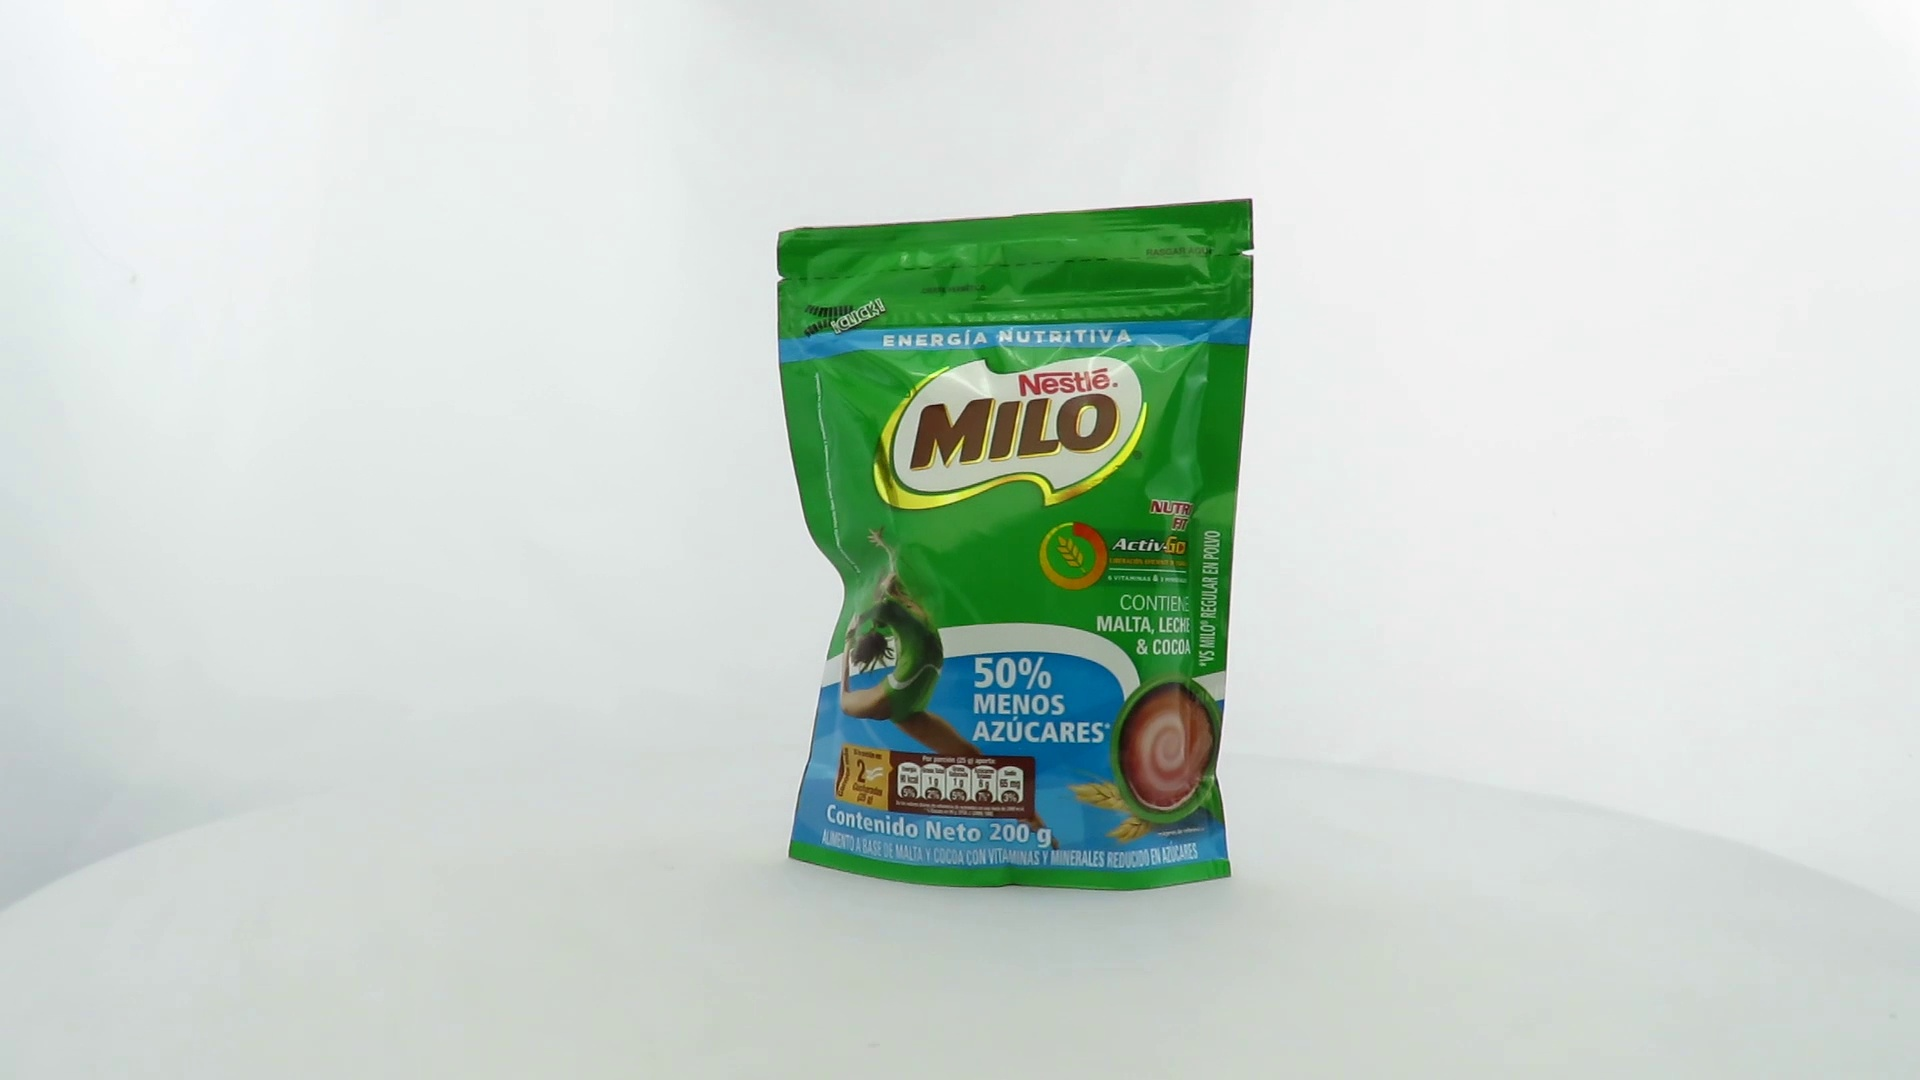COL0170205DYP20000: (771, 193, 1261, 898)
